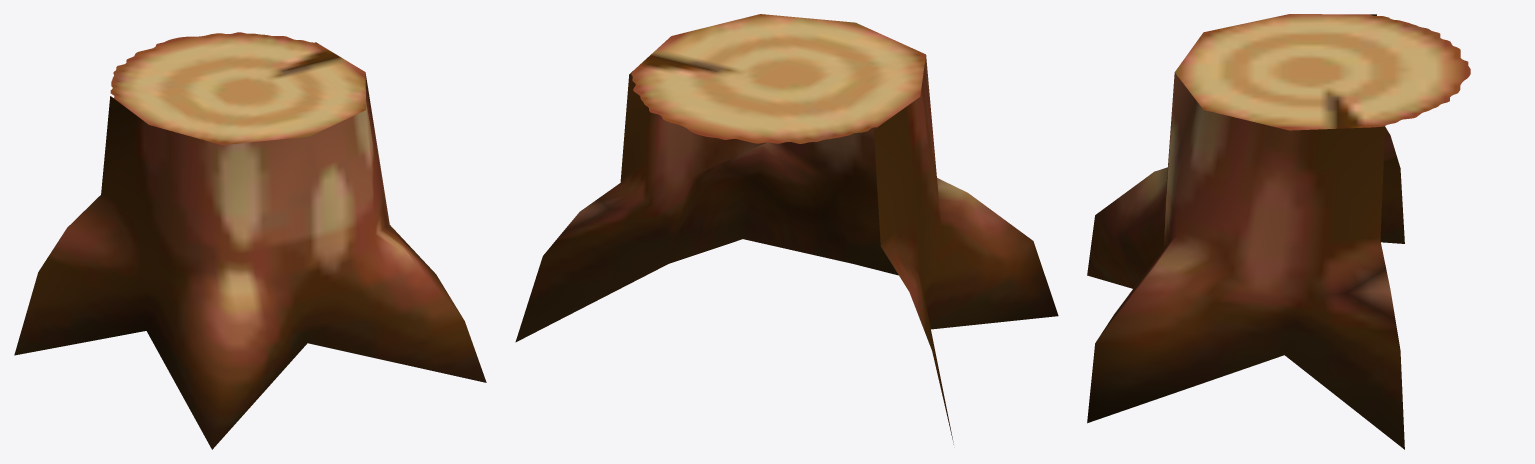
The model's file is fg_treeB_4_b.dae.
3 views of the same model, side by side, from view 1: azimuth 30°, elevation 25°; view 2: azimuth 150°, elevation 25°; view 3: azimuth 270°, elevation 25° (orthographic). The views are drawn at different scales.
Parts seen in each view (by area): view 1: vsn_mesh_0_; view 2: vsn_mesh_0_; view 3: vsn_mesh_0_.
Boxes of the visible parts, box(x1,y1,x2,y2) form: vsn_mesh_0_: box(14, 32, 486, 449); vsn_mesh_0_: box(515, 14, 1058, 444); vsn_mesh_0_: box(1087, 14, 1470, 449).
Bounding box in the file's own units: 31.18 × 19.55 × 27.75.
